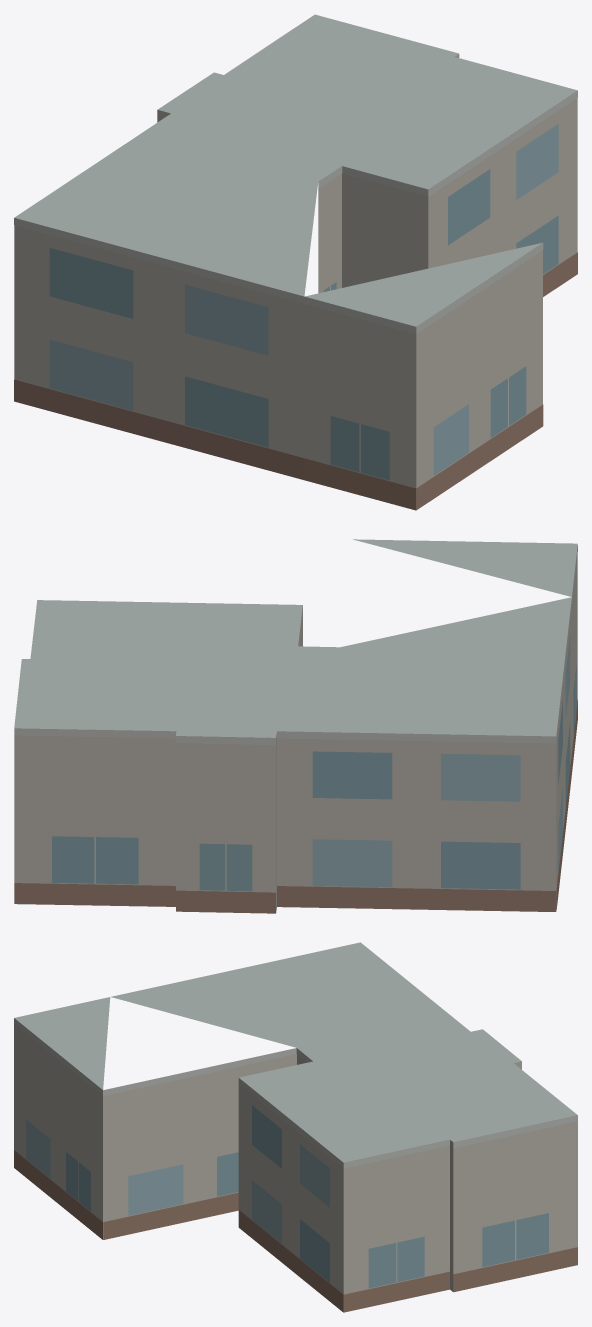
Rendered from survey-upis-32704040.glb.
3 renders of one model, top to bottom at view 1: azimuth 30°, elevation 25°; view 2: azimuth 150°, elevation 25°; view 3: azimuth 270°, elevation 25°, orthographic. The views are drawn at different scales.
Visible parts, largest first — view 1: survey-upis-32704040.tmp; view 2: survey-upis-32704040.tmp; view 3: survey-upis-32704040.tmp.
Part boxes in pixels (x1,y1,x2,y2): survey-upis-32704040.tmp: (14, 14, 577, 510); survey-upis-32704040.tmp: (14, 539, 577, 913); survey-upis-32704040.tmp: (14, 942, 577, 1312).
Bounding box in the file's own units: 19.24 × 6.1 × 20.8.
